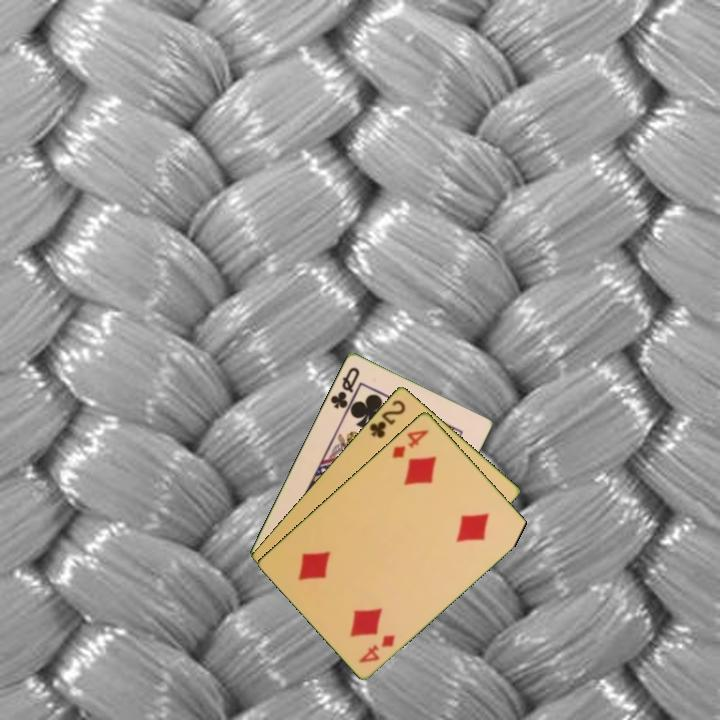2c: (366, 396, 408, 441)
4d: (388, 425, 431, 461), (355, 630, 398, 666)
Qc: (327, 363, 362, 412)
